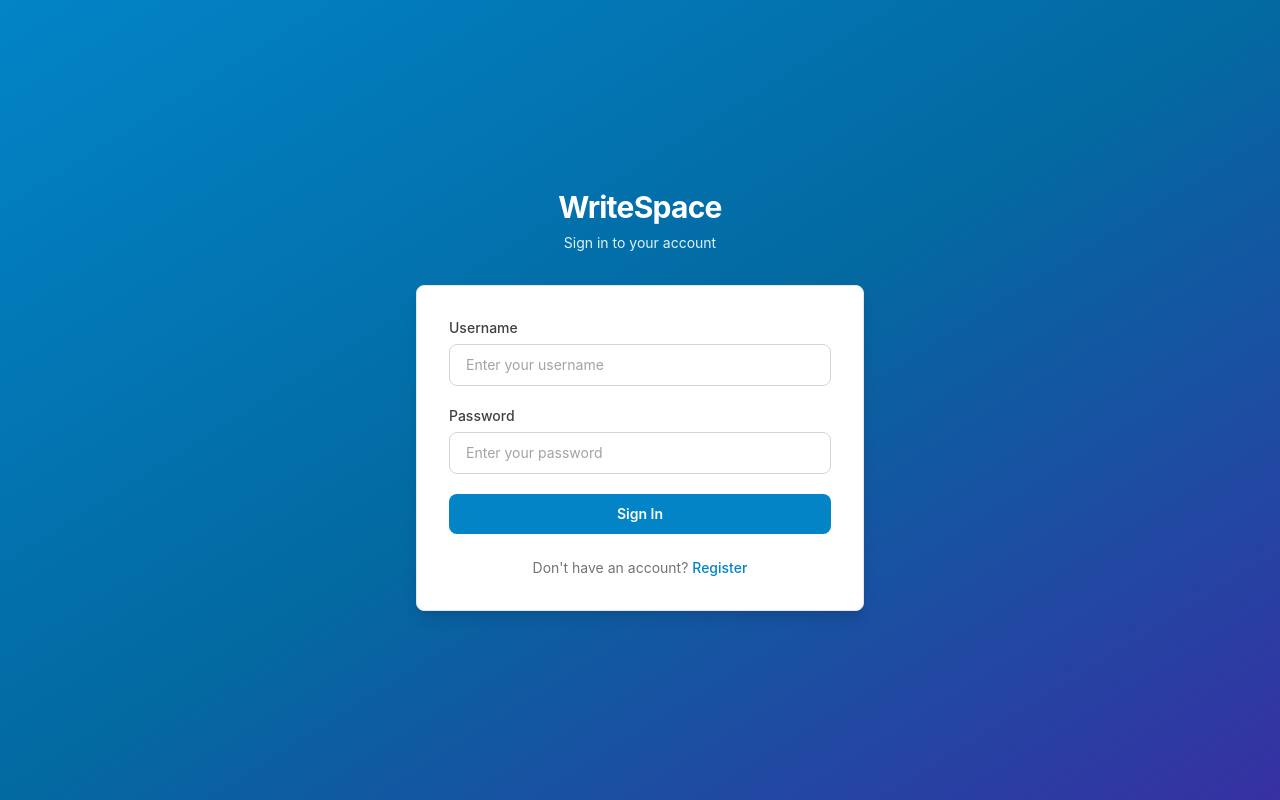
Test: LoginPage › form validation › shows error when password is empty
Type "someuser" into the field labelled "Username" at x=640, y=365, box [449,344,831,386]
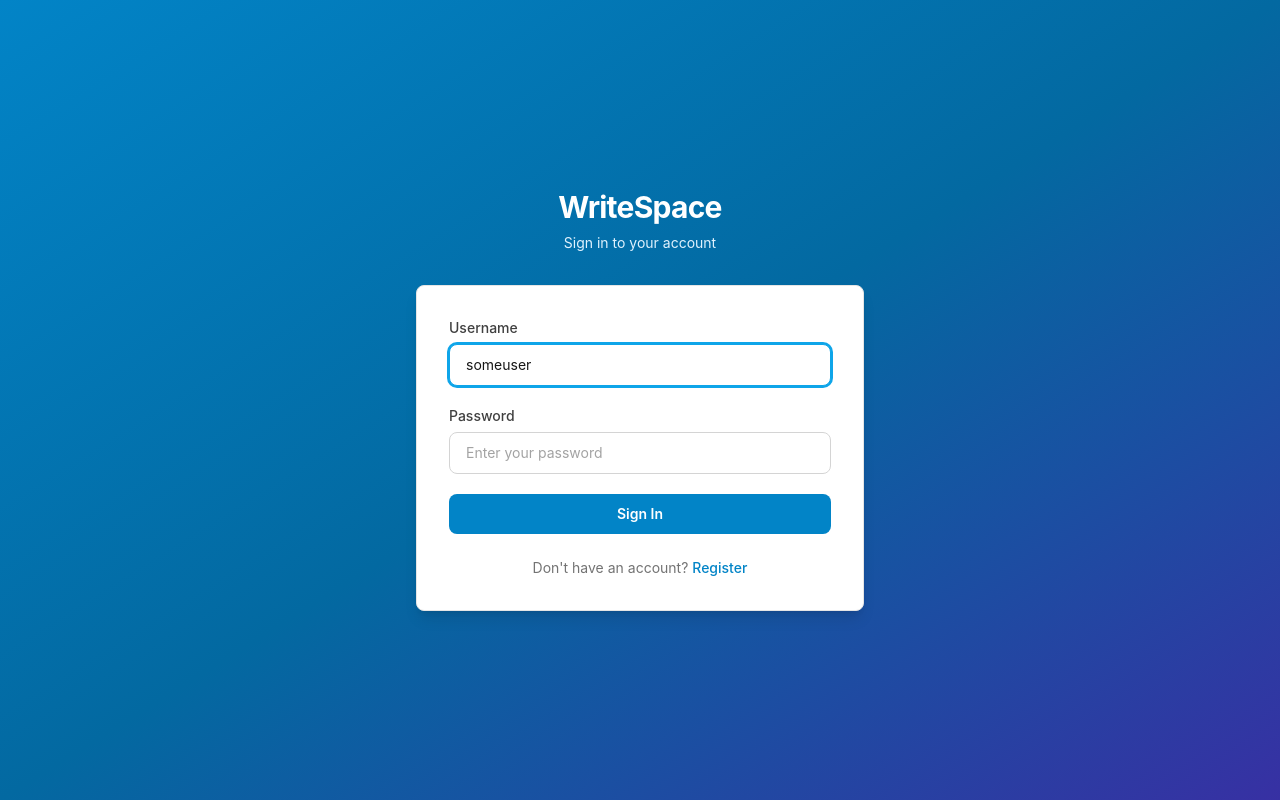
Click the button "Sign In" at x=640, y=514, box [449,494,831,534]
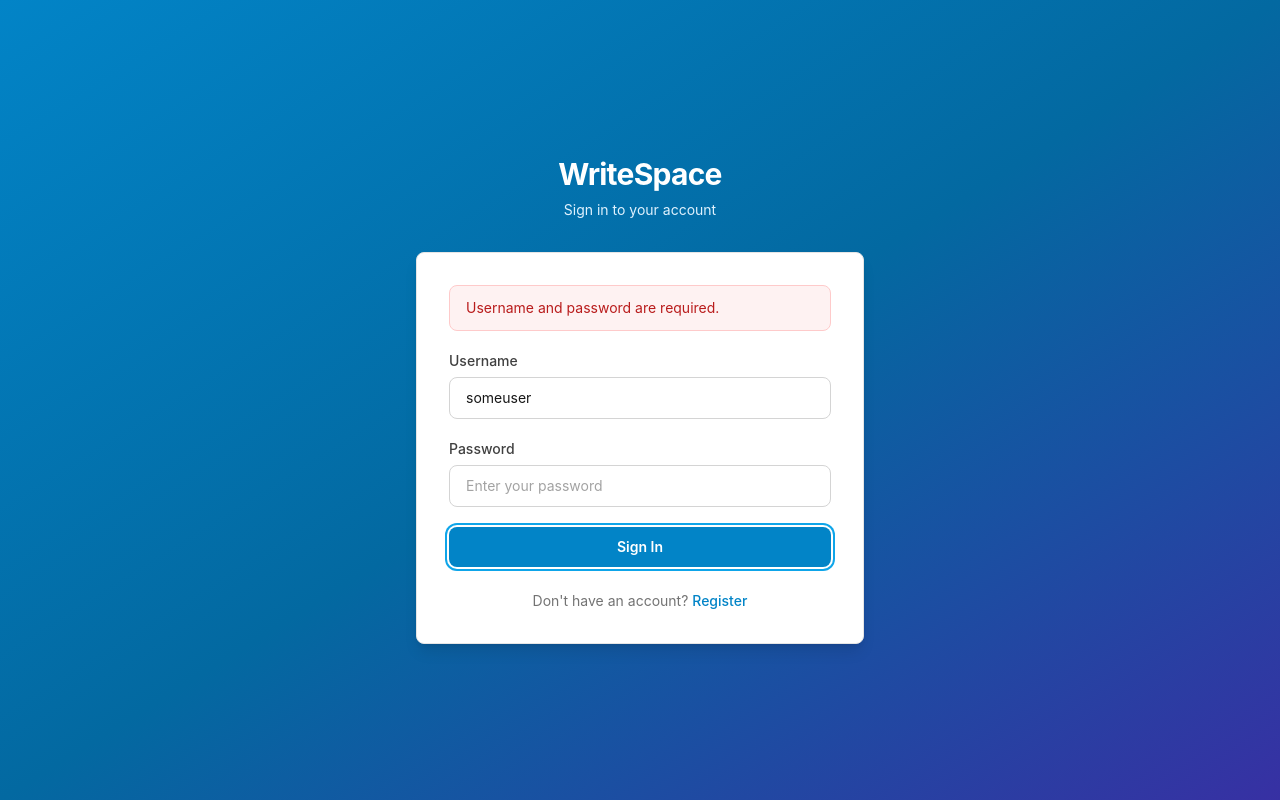
Expected: the text "Username and password are required." is shown, [449,285,831,331]
